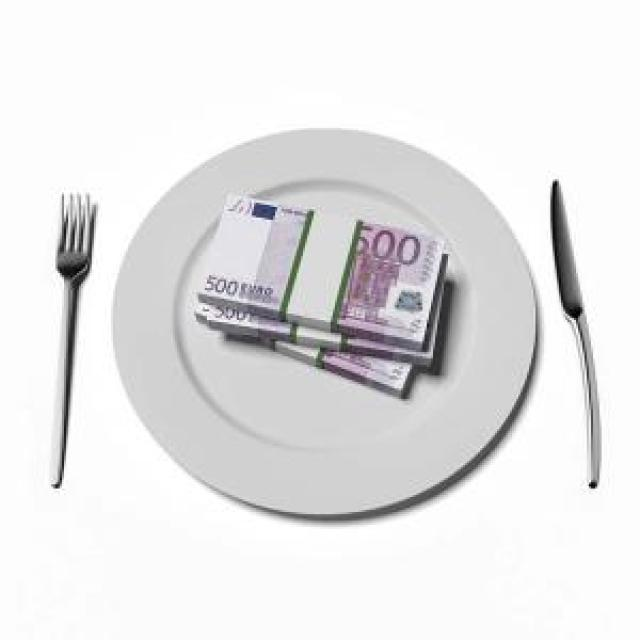knife: (548, 177, 602, 482)
